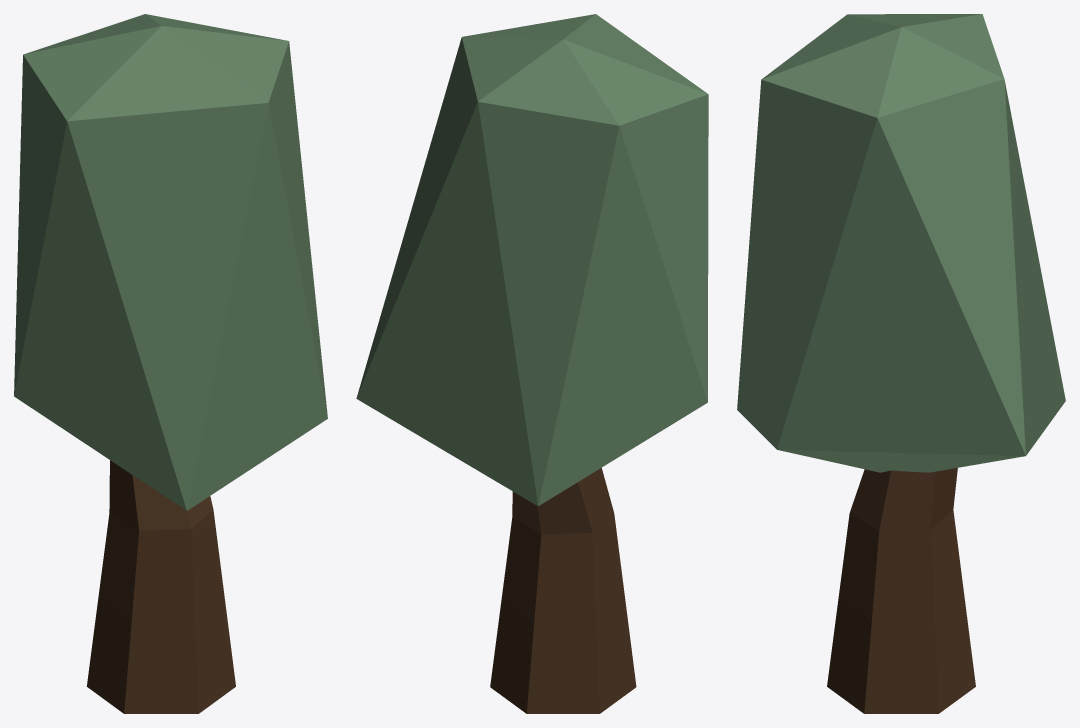
The model's file is square_tree.fbx.
The picture shows the model from 3 angles, left to right: view 1: azimuth 30°, elevation 25°; view 2: azimuth 150°, elevation 25°; view 3: azimuth 270°, elevation 25°; orthographic projection.
Parts seen in each view (by area): view 1: square tree.001, standard tree trunk.001; view 2: square tree.001, standard tree trunk.001; view 3: square tree.001, standard tree trunk.001.
Part boxes in pixels (box(x1,y1,x2,y2)): square tree.001: box(14, 14, 327, 510); standard tree trunk.001: box(87, 460, 235, 713); square tree.001: box(356, 14, 708, 506); standard tree trunk.001: box(490, 468, 636, 713); square tree.001: box(737, 14, 1065, 472); standard tree trunk.001: box(827, 468, 975, 713).
Size of the model in its own units: 3.34 by 7.13 by 3.22.
Materials: 2 (2 with a texture image).
